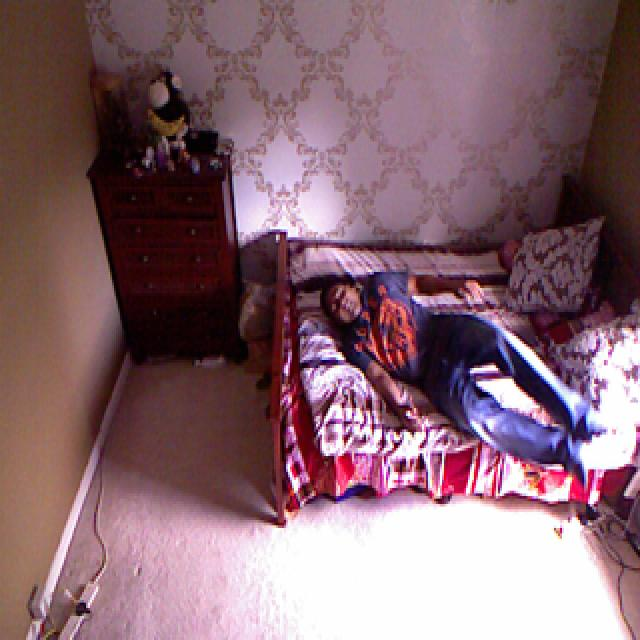lying: (319, 273, 616, 484)
